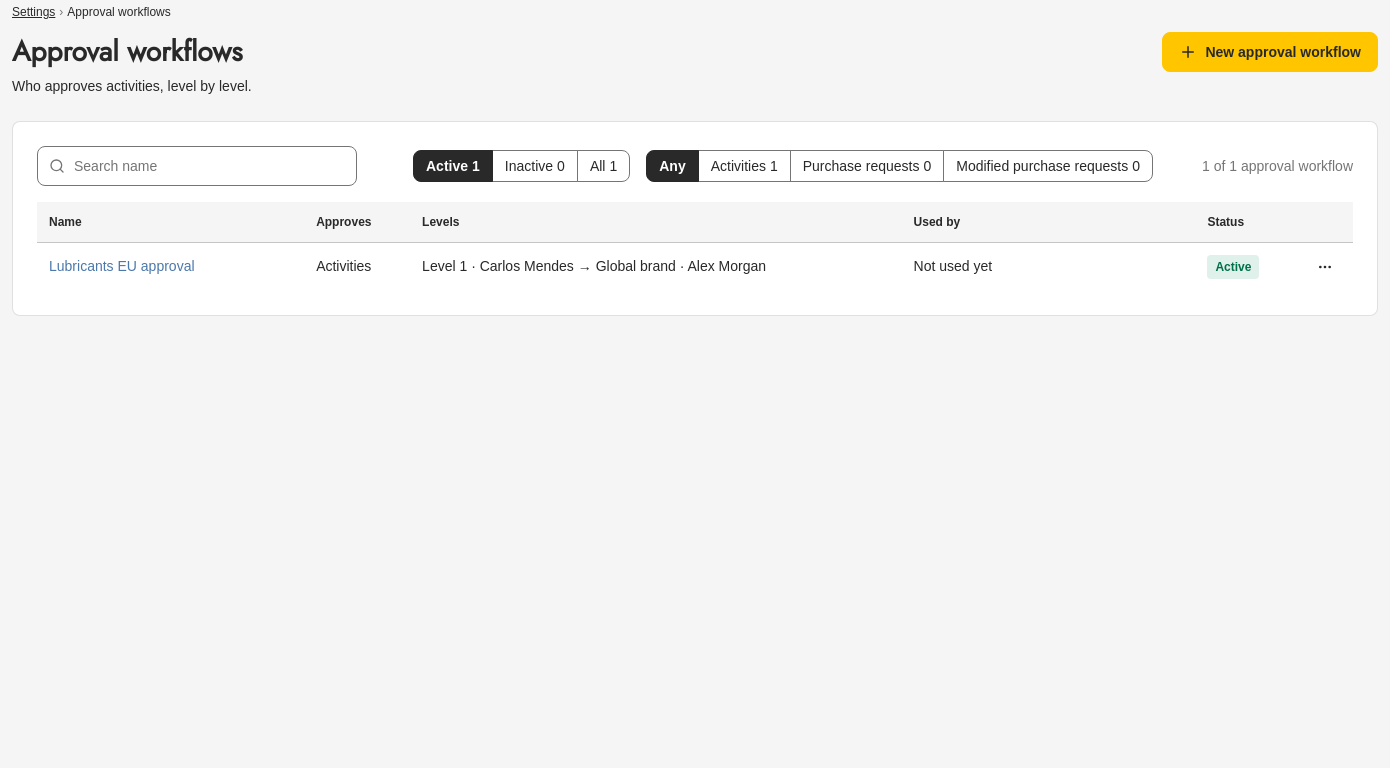
Test: ApprovalWorkflowsPage set inactive, reactivate and delete (feature 008, US4) › sets an unused workflow inactive at once, with Undo (design system §6.7)
Expected: the row "Lubricants EU approval" is shown, [37,242,1353,290]
Click the button named "Actions for Lubricants EU approval" at point(1325, 266), box [1309,250,1341,282]
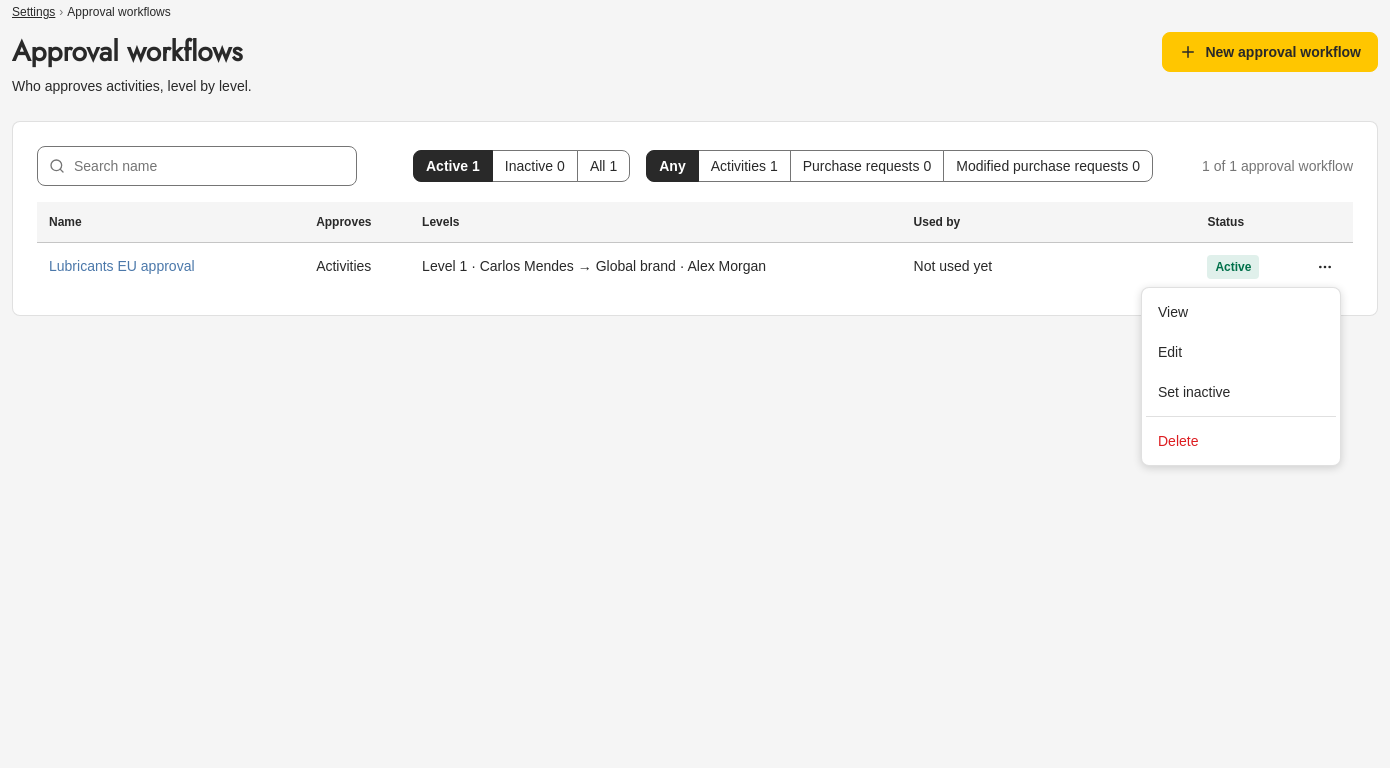
Click the menu item "Set inactive" at point(1194, 392), box [1158,384,1230,400]
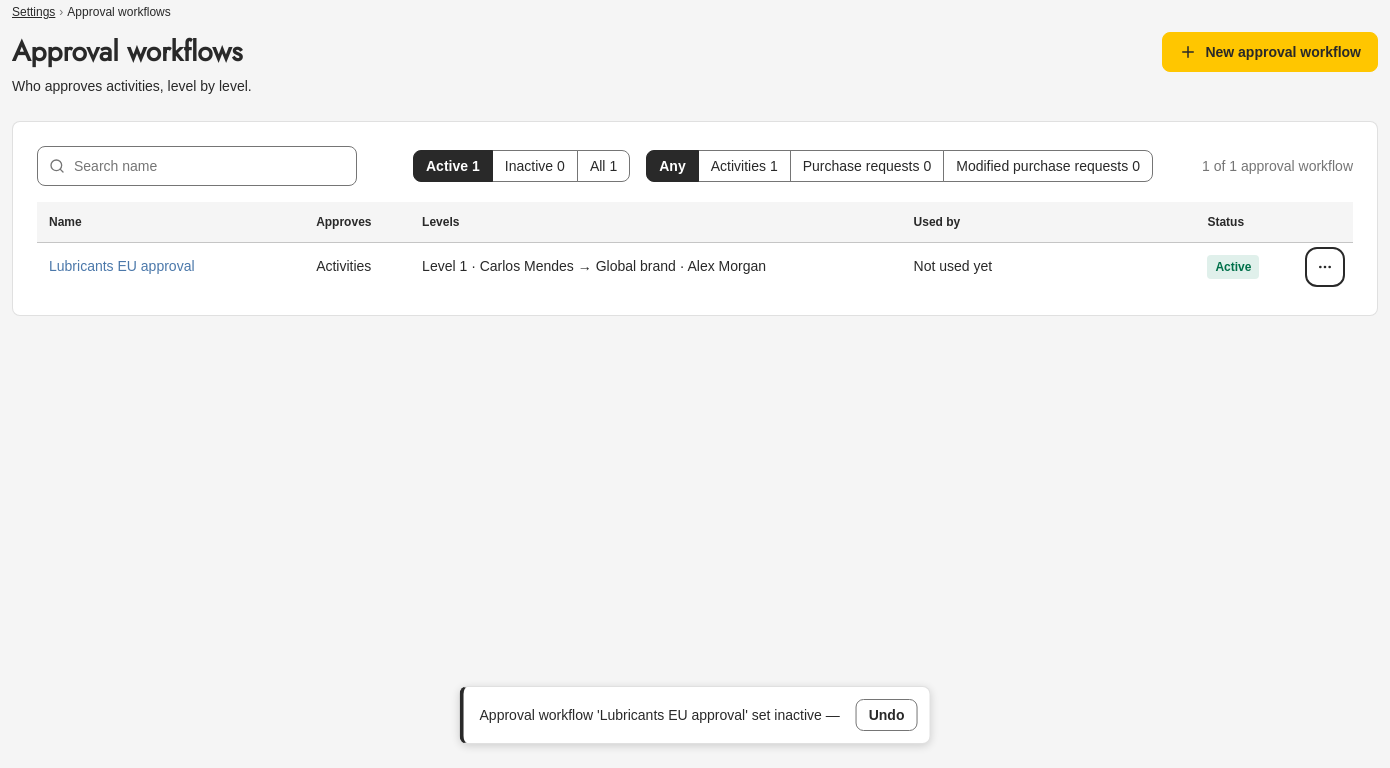
Result: the text "Approval workflow 'Lubricants EU approval' set inactive" is shown at [480,706,826,722]
Click the button "Undo" at point(887, 715), box [856,699,918,731]
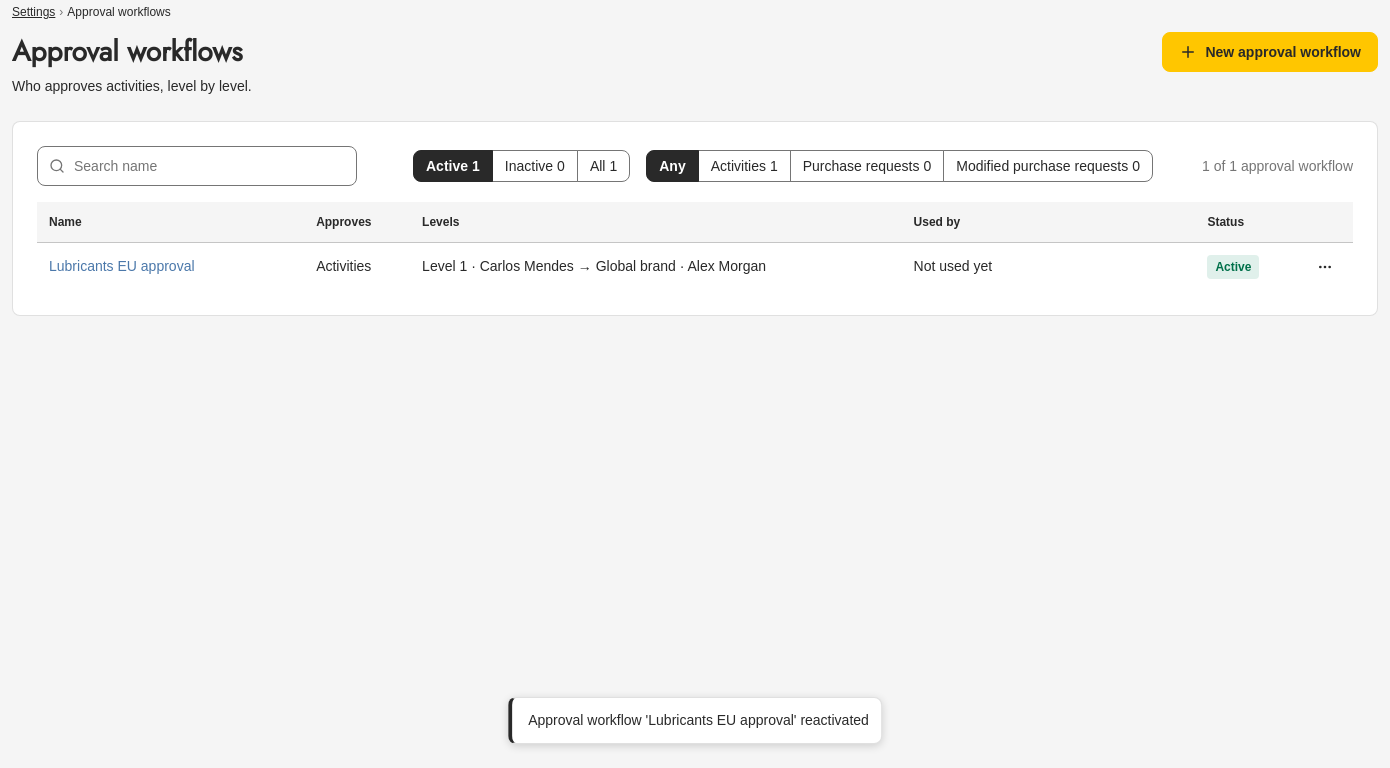
Result: the text "Approval workflow 'Lubricants EU approval' reactivated" is shown at [528,710,869,731]
